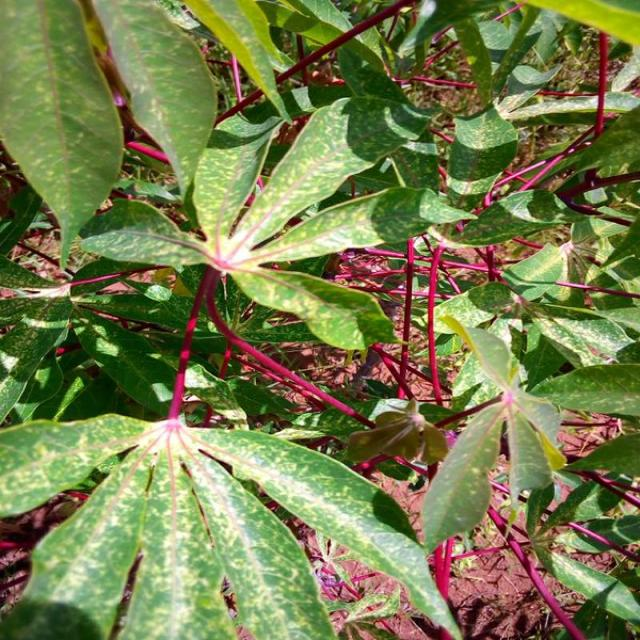cassava leaf: (0, 0, 638, 638), (0, 0, 124, 272)
